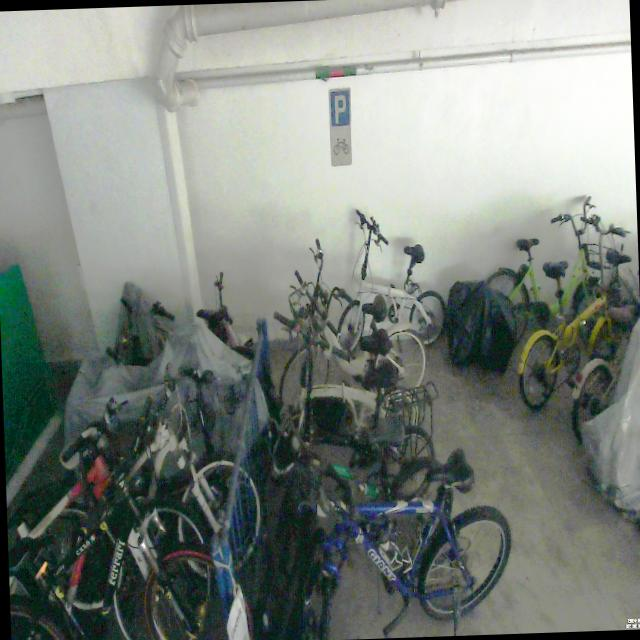bike: (38, 366, 263, 614), (3, 399, 213, 640), (269, 447, 514, 640), (274, 235, 429, 423), (510, 213, 640, 401), (474, 191, 613, 361), (333, 204, 449, 354)
